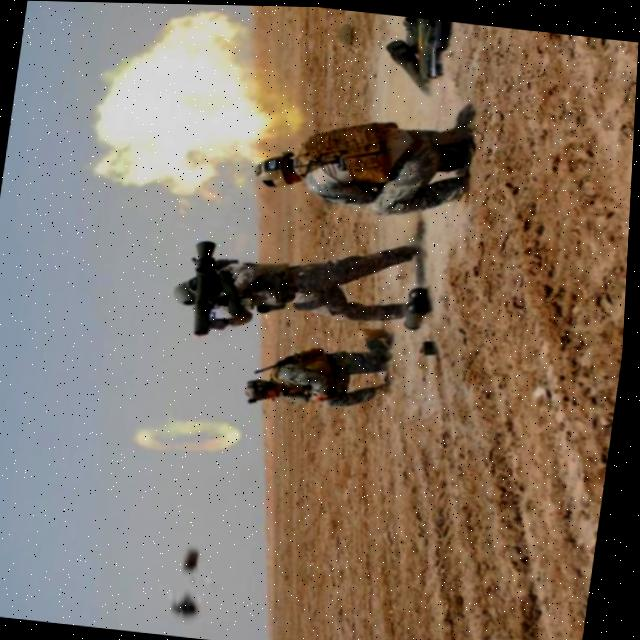rocket: (176, 230, 242, 343)
